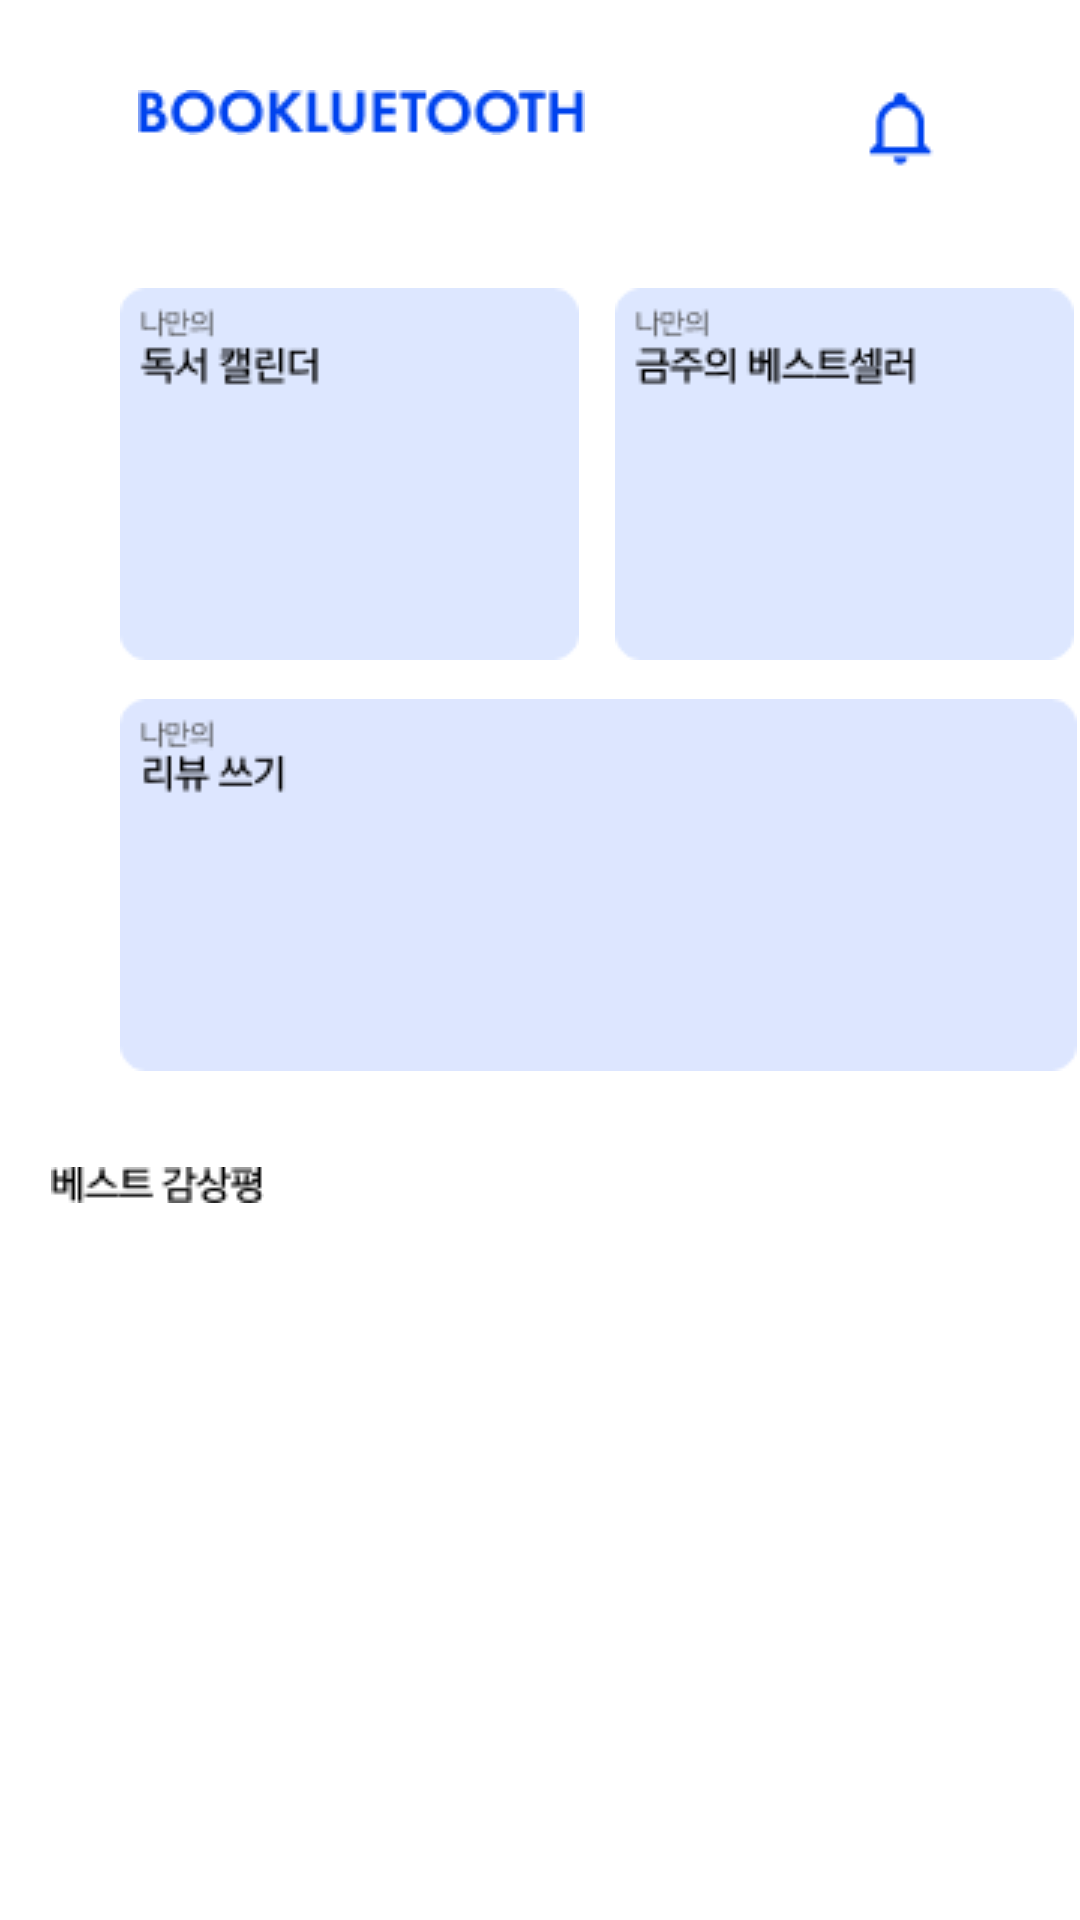

Where to tap for icons on this 1080×1920 app screen, as (x,y):
bell: (901,129)
